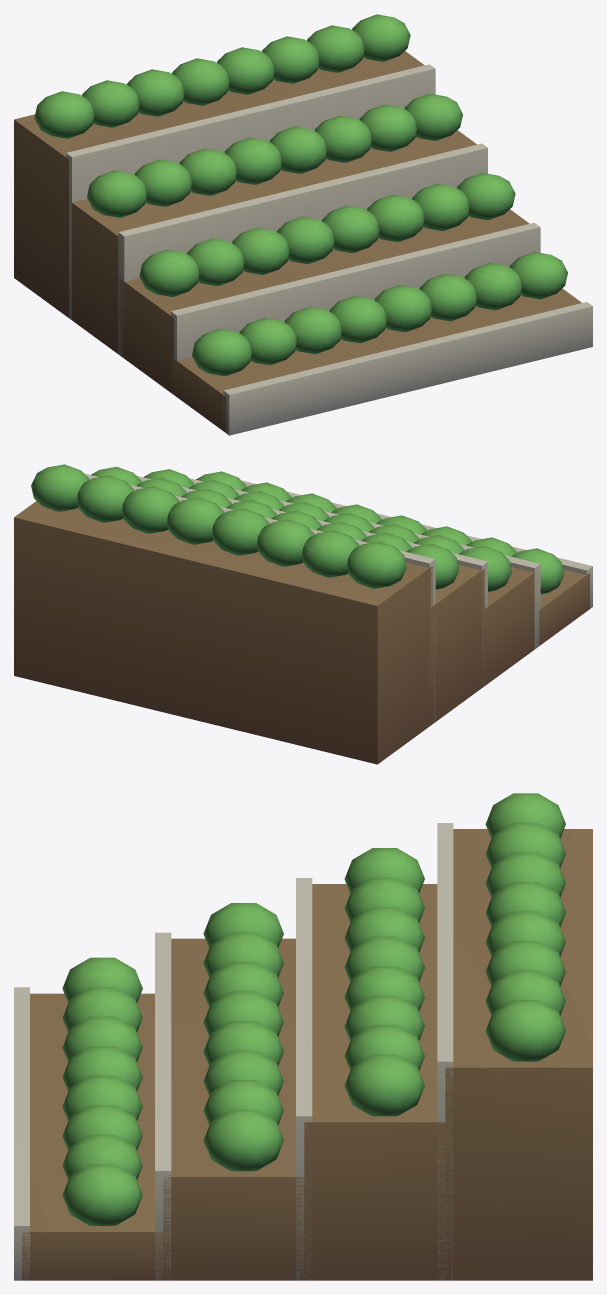
File: tea_terrace.glb
3 views of the same model, one above another, from view 1: azimuth 30°, elevation 25°; view 2: azimuth 150°, elevation 25°; view 3: azimuth 270°, elevation 25° (orthographic). The views are drawn at different scales.
Parts seen in each view (by area): view 1: Terrace; view 2: Terrace; view 3: Terrace.
Boxes of the visible parts, x1,y1,x2,y2 form: Terrace: (14,14,592,435); Terrace: (14,464,592,764); Terrace: (14,793,592,1280).
Size of the model in its own units: 4.24 by 2.16 by 4.31.
